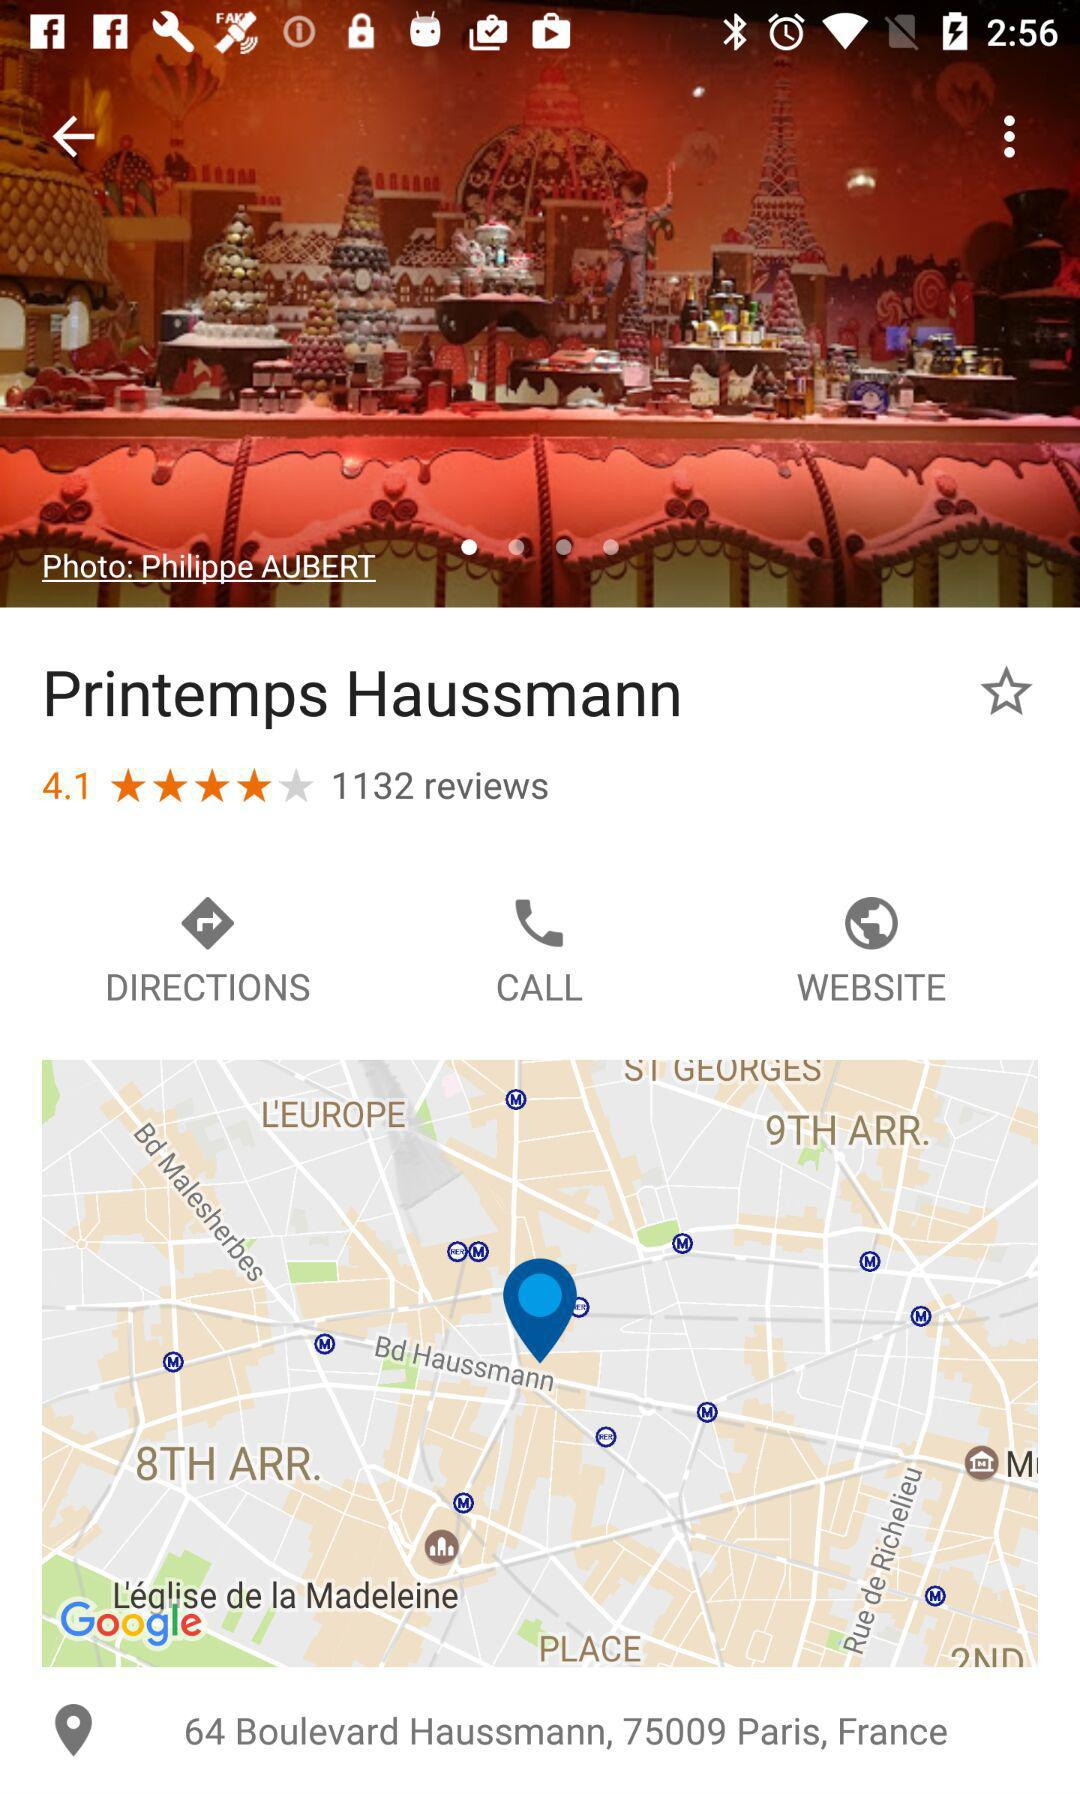Icon: (111, 768, 316, 803), (181, 896, 236, 951), (980, 666, 1033, 718), (55, 1703, 94, 1758), (53, 115, 96, 160), (1002, 114, 1019, 161)
Image: (44, 1060, 1038, 1668), (1, 54, 1080, 609), (844, 896, 899, 951), (515, 900, 564, 948)
Map: (44, 1060, 1038, 1668)
PageIndicator: (460, 538, 623, 557)
Text: (47, 670, 682, 730), (186, 1715, 948, 1750), (333, 771, 550, 801), (108, 973, 311, 1002), (797, 973, 945, 1002), (497, 973, 584, 1002), (42, 771, 88, 801)
TextButton: (42, 554, 377, 586)
UpperTaskBar: (1, 1, 1080, 54)
